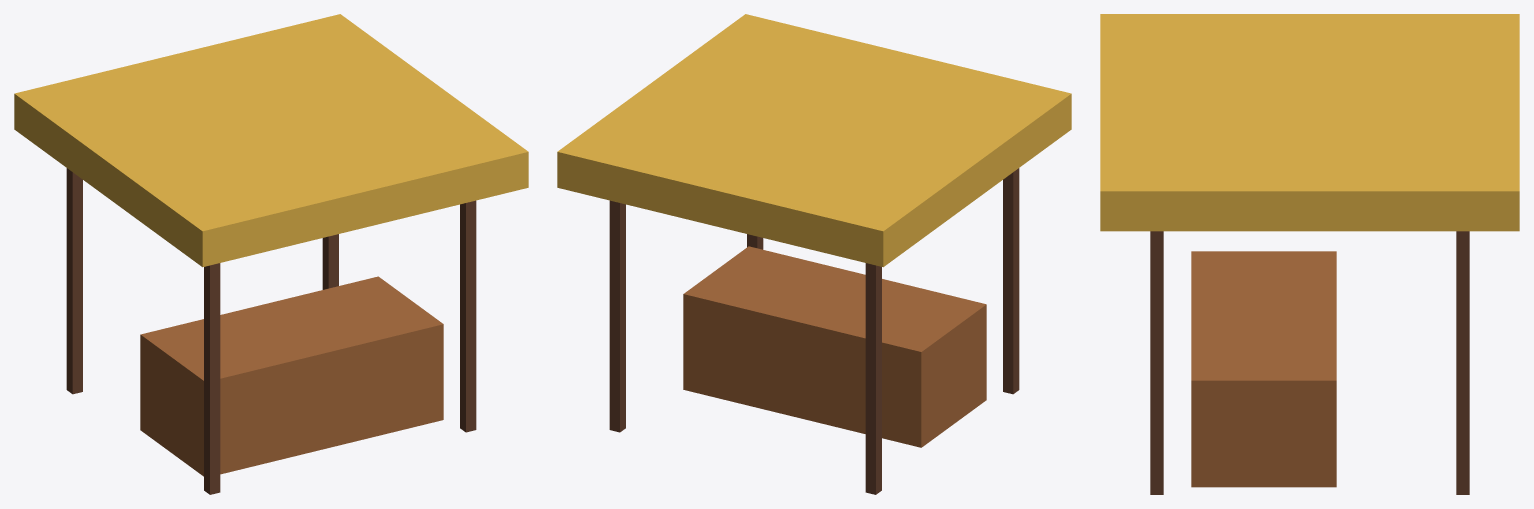
The model's file is prop_saung.fbx.
3 renders of one model, left to right at view 1: azimuth 30°, elevation 25°; view 2: azimuth 150°, elevation 25°; view 3: azimuth 270°, elevation 25°, orthographic. The views are drawn at different scales.
Visible parts, largest first — view 1: prop_saung; view 2: prop_saung; view 3: prop_saung.
Boxes of the visible parts, bbox=[...] form: prop_saung: bbox=[14, 14, 528, 494]; prop_saung: bbox=[557, 14, 1071, 494]; prop_saung: bbox=[1100, 14, 1519, 494].
Bounding box in the file's own units: 285 × 240 × 285.
Materials: 1 (1 with a texture image).
